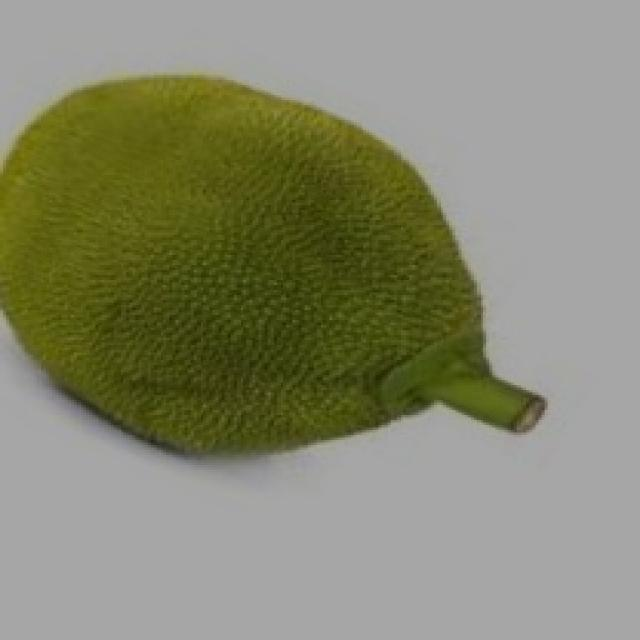Fruit: (0, 48, 406, 468)
